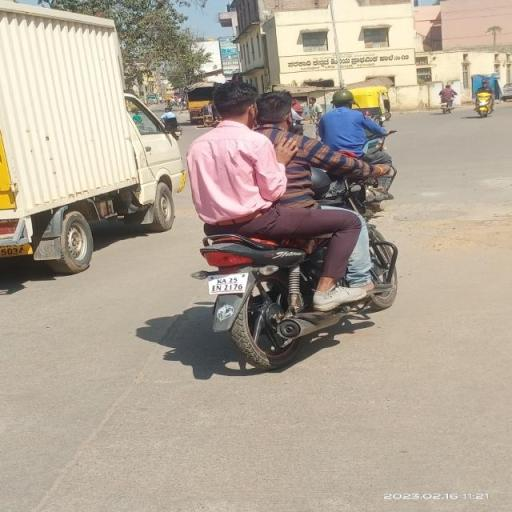bike: (182, 76, 393, 373)
numberplate: (208, 276, 246, 294)
withouthelmet: (216, 81, 257, 120), (257, 92, 291, 126)
